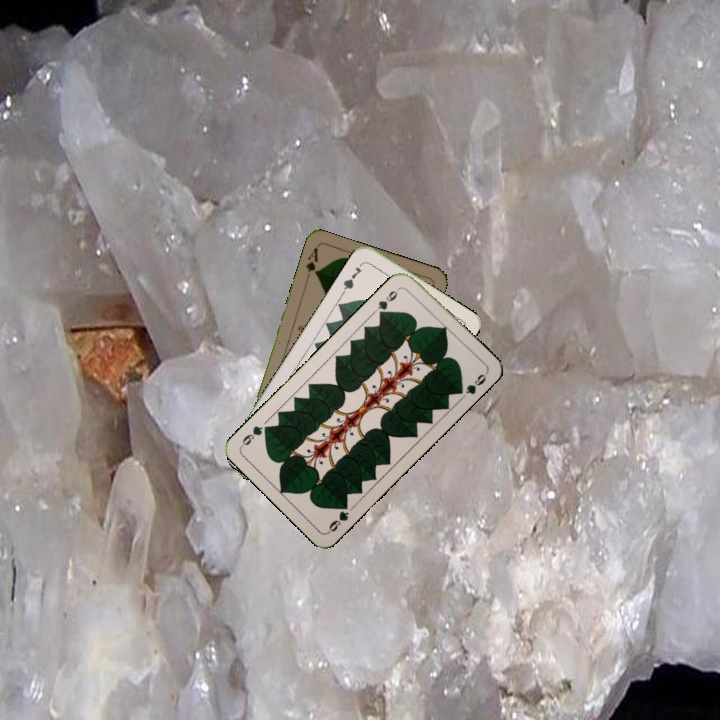G7: (339, 258, 366, 295)
G9: (373, 283, 403, 319), (324, 498, 351, 535)
GA: (302, 243, 321, 277)
